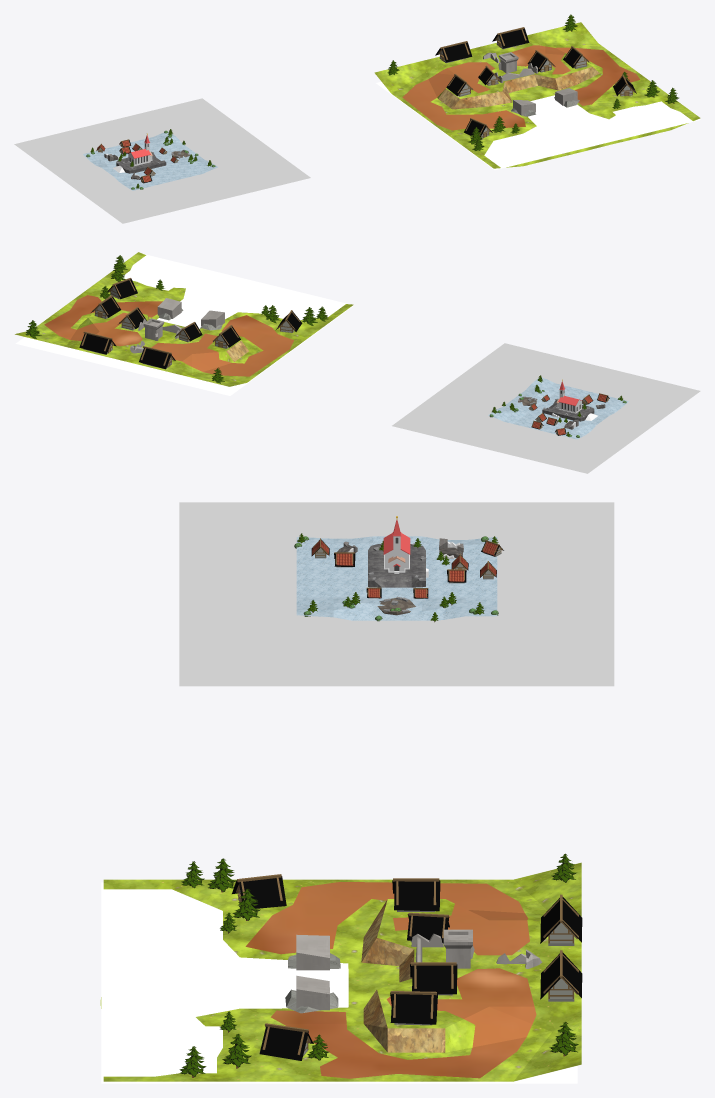
Rendered from last frontier.glb.
The picture shows the model from 3 angles, top to bottom: view 1: azimuth 30°, elevation 25°; view 2: azimuth 150°, elevation 25°; view 3: azimuth 270°, elevation 25°; orthographic projection. The views are drawn at different scales.
Parts seen in each view (by area): view 1: Plane.002, Plane, water, Plane.004, Plane.001, Plane.003, Cube.002, Church; view 2: Plane.002, Plane, water, Plane.004, Plane.001, Cube.002, Church; view 3: Plane.002, Plane, water, Plane.004, Plane.001, Plane.003, Cube.002, Church.
Boxes of the visible parts, bbox=[...] form: Plane.002: bbox=[14, 98, 310, 223]; Plane: bbox=[374, 22, 700, 168]; water: bbox=[376, 81, 700, 169]; Plane.004: bbox=[402, 45, 640, 130]; Plane.001: bbox=[83, 131, 217, 190]; Plane.003: bbox=[438, 67, 599, 109]; Cube.002: bbox=[116, 153, 166, 173]; Church: bbox=[128, 133, 152, 166]; Plane.002: bbox=[392, 343, 700, 473]; Plane: bbox=[15, 252, 353, 386]; water: bbox=[15, 254, 353, 395]; Plane.004: bbox=[44, 295, 293, 376]; Plane.001: bbox=[488, 377, 628, 439]; Cube.002: bbox=[542, 399, 594, 421]; Church: bbox=[556, 379, 582, 413]; Plane.002: bbox=[179, 502, 614, 686]; Plane: bbox=[100, 862, 582, 1081]; water: bbox=[101, 882, 577, 1083]; Plane.004: bbox=[245, 882, 536, 1078]; Plane.001: bbox=[296, 536, 497, 620]; Plane.003: bbox=[361, 899, 445, 1052]; Cube.002: bbox=[368, 544, 425, 587]; Church: bbox=[383, 516, 410, 573].
Size of the model in its own units: 5.42 by 0.5166 by 2.15.
Materials: 24 (16 with a texture image).
